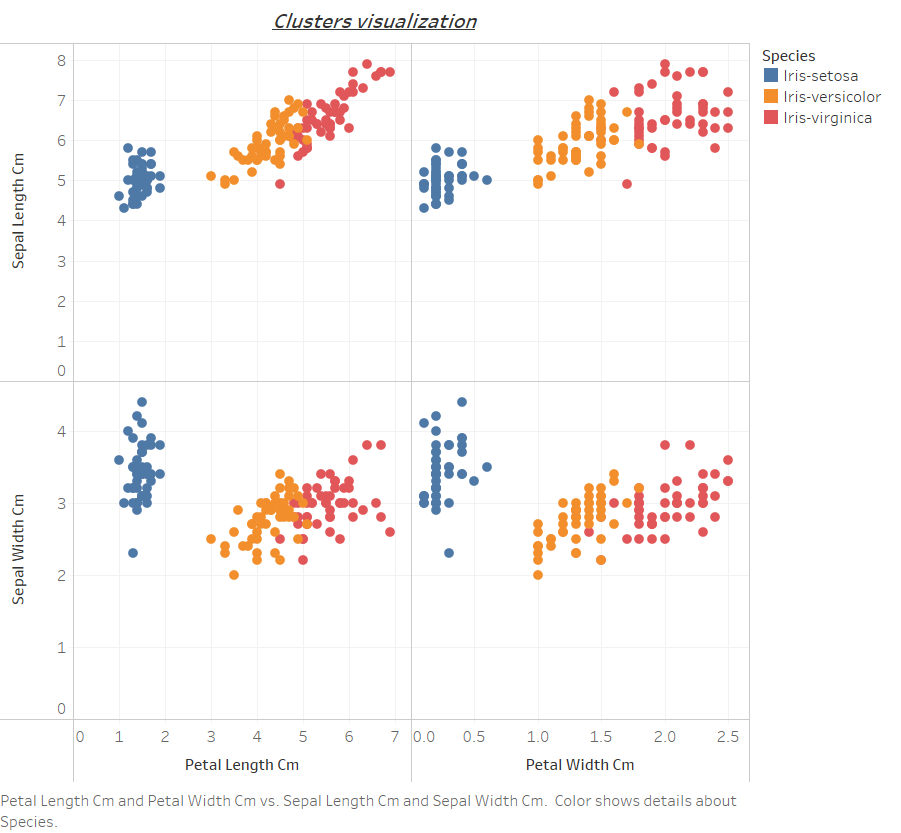

This screenshot's page, from the dashboard's own definition file:
{"tool":"tableau","page":{"name":"Dashboard 3","canvas":[1000,800],"ordinal":2},"visuals":[{"type":"worksheet","title":"Sheet 1","mark":"Automatic","rows":["petal_width"],"cols":["petal_length"],"box":[8,8,778,784]},{"type":"legend","title":"Sheet 1","param":"[federated.17awj0d01m9j9v1asx1z70plcir9].[none:species:nk]","box":[786,8,206,93]},{"type":"worksheet","title":"Sheet 3","mark":"Circle","box":[786,101,206,598]},{"type":"legend","title":"Sheet 3","param":"[federated.17awj0d01m9j9v1asx1z70plcir9].[none:species:nk]","box":[786,699,206,93]}]}

Visuals, with their boxes on the page's 1000x800 design canvas (x1, y1, x2, y2). These are canvas units, not pixel positions in the 901x833 screenshot, which may show the page scaled, cropped or inside an application window:
"Sheet 1" worksheet: crop(8, 8, 786, 792)
"Sheet 1" legend: crop(786, 8, 992, 101)
"Sheet 3" worksheet (Circle marks): crop(786, 101, 992, 699)
"Sheet 3" legend: crop(786, 699, 992, 792)
